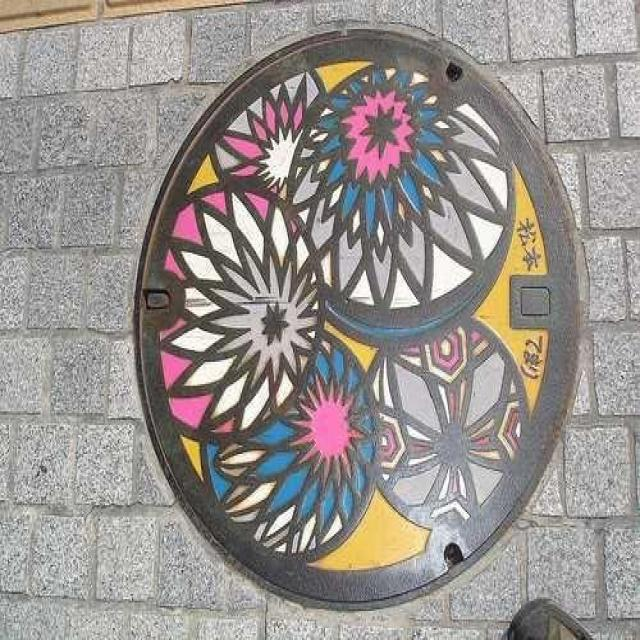manhole: (135, 32, 579, 606)
